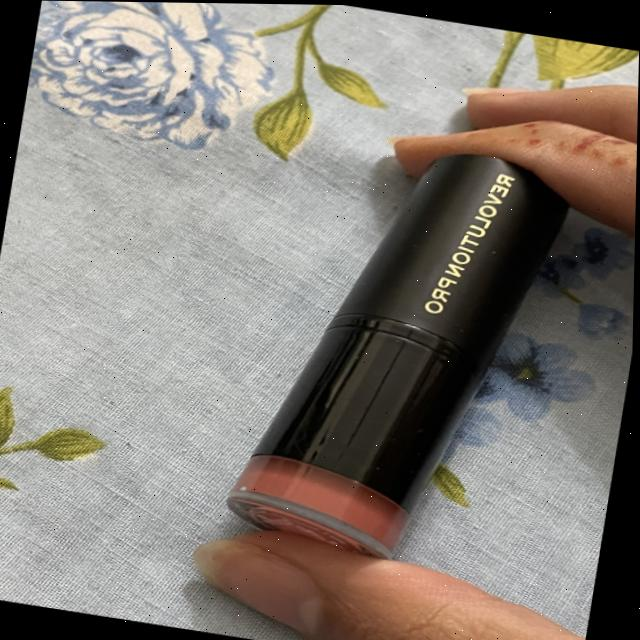lip stick: (196, 110, 604, 583)
